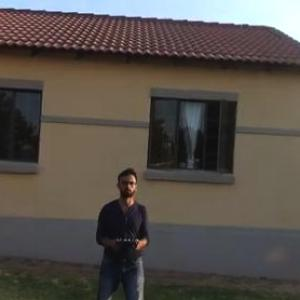follow: (84, 162, 152, 299)
